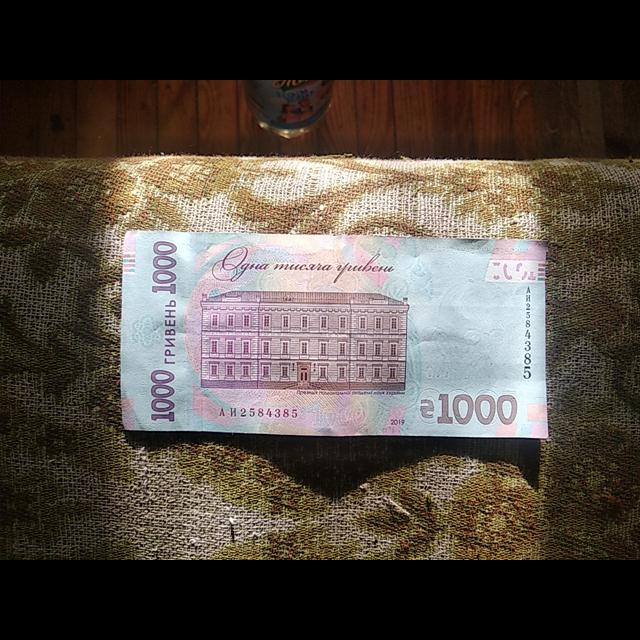1000uah: (117, 234, 548, 436)
